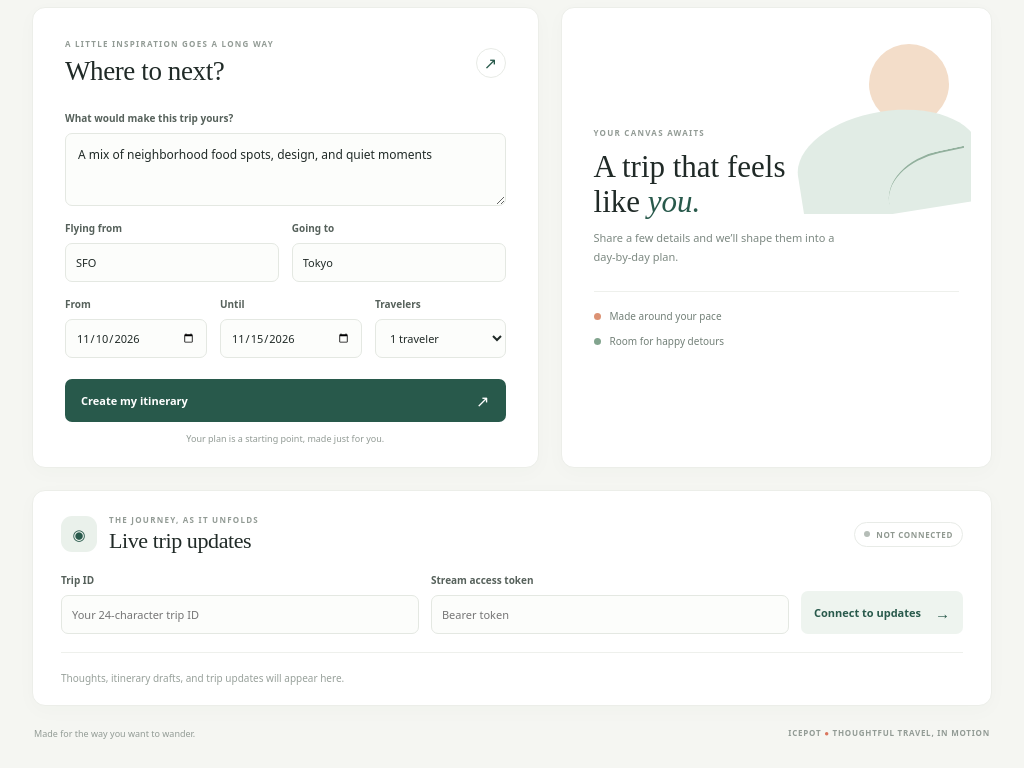
trip planning dashboard › shows explicit agent service errors
(page scrolled)
Click the button "Create my itinerary ↗" at x=134, y=400, box [65,379,506,422]
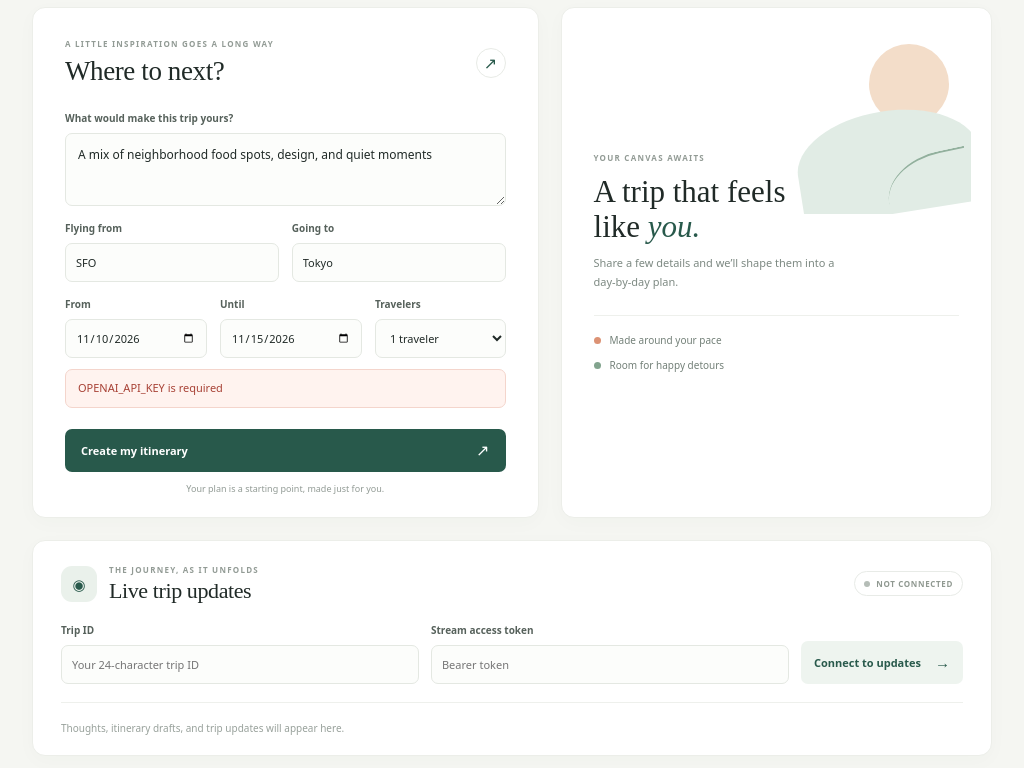
Now the message reads "OPENAI_API_KEY is required", box [78,380,223,395]
